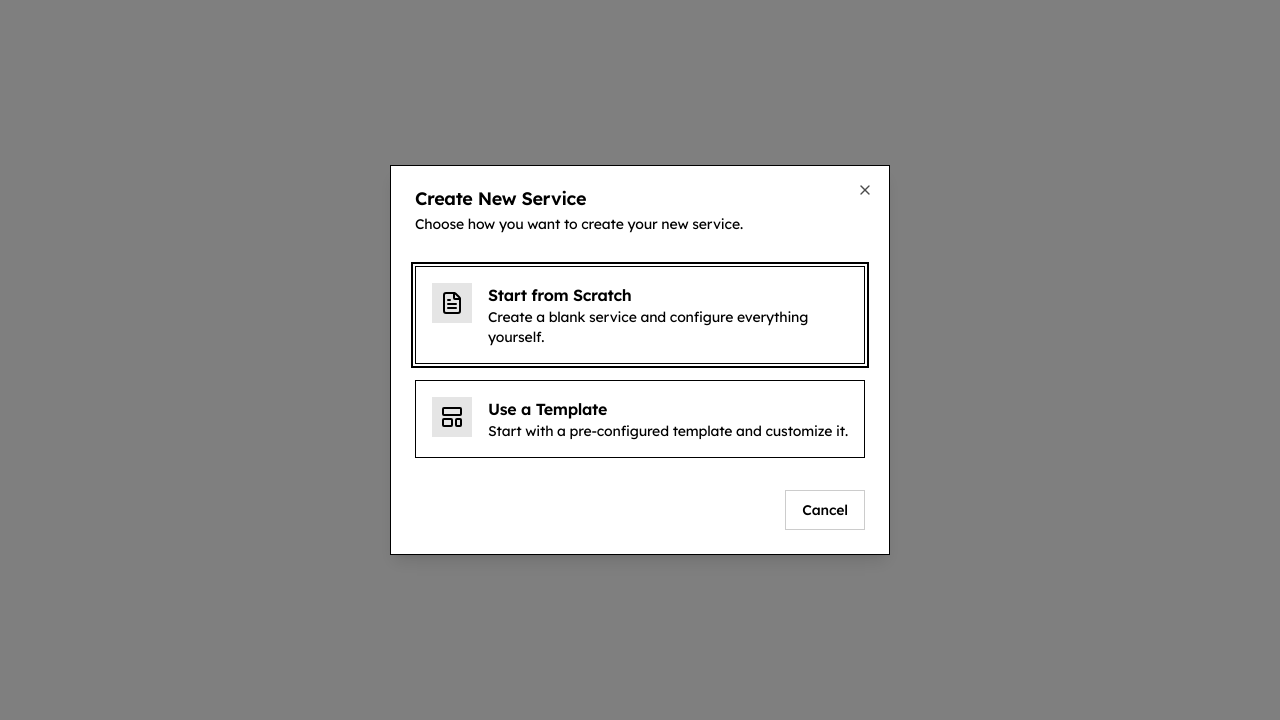
CreateServiceDialog › Mode Selection › shows template gallery when "Use a Template" is clicked
The image size is (1280, 720).
Click the heading "Use a Template" at (548, 409), box [488,399,607,419]
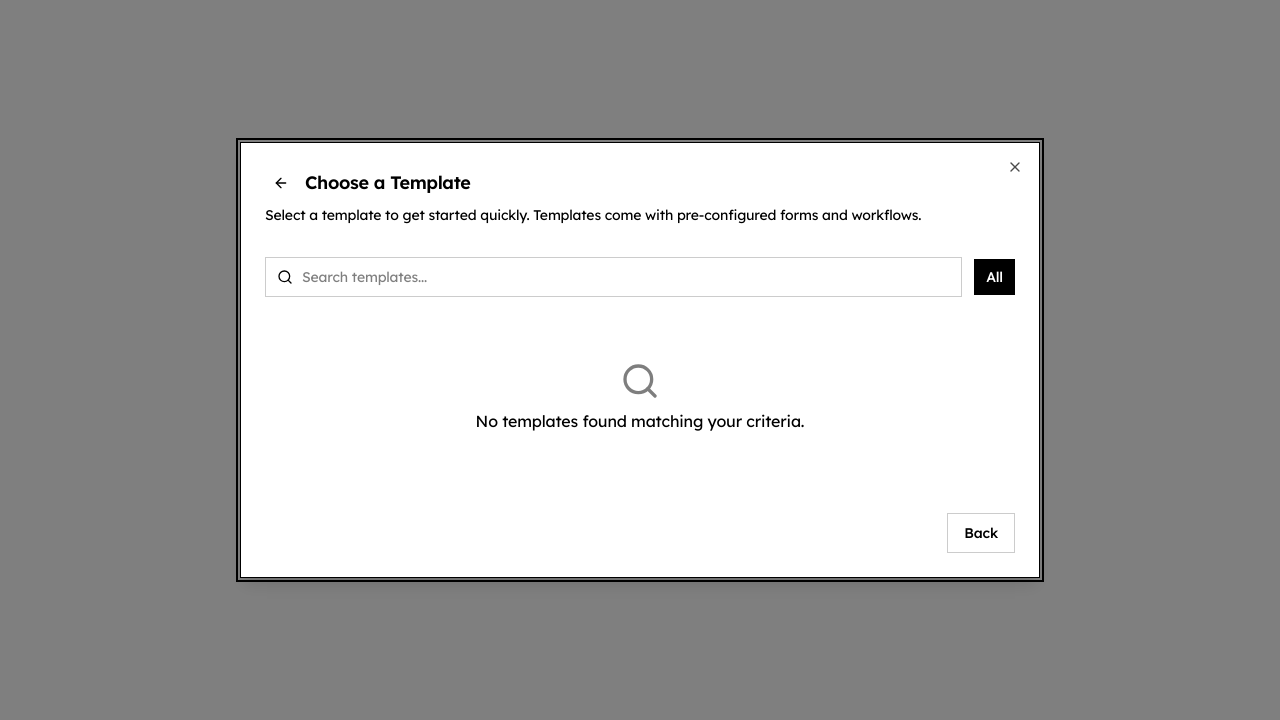
Now the heading "Choose a Template" is shown, box [305,174,470,192]
Now the field with placeholder "Search templates..." is shown, box [265,257,962,297]
